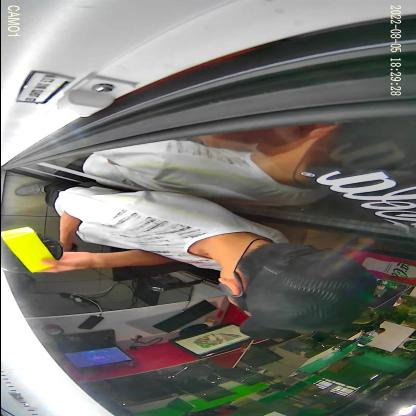yellow: (0, 226, 63, 273)
